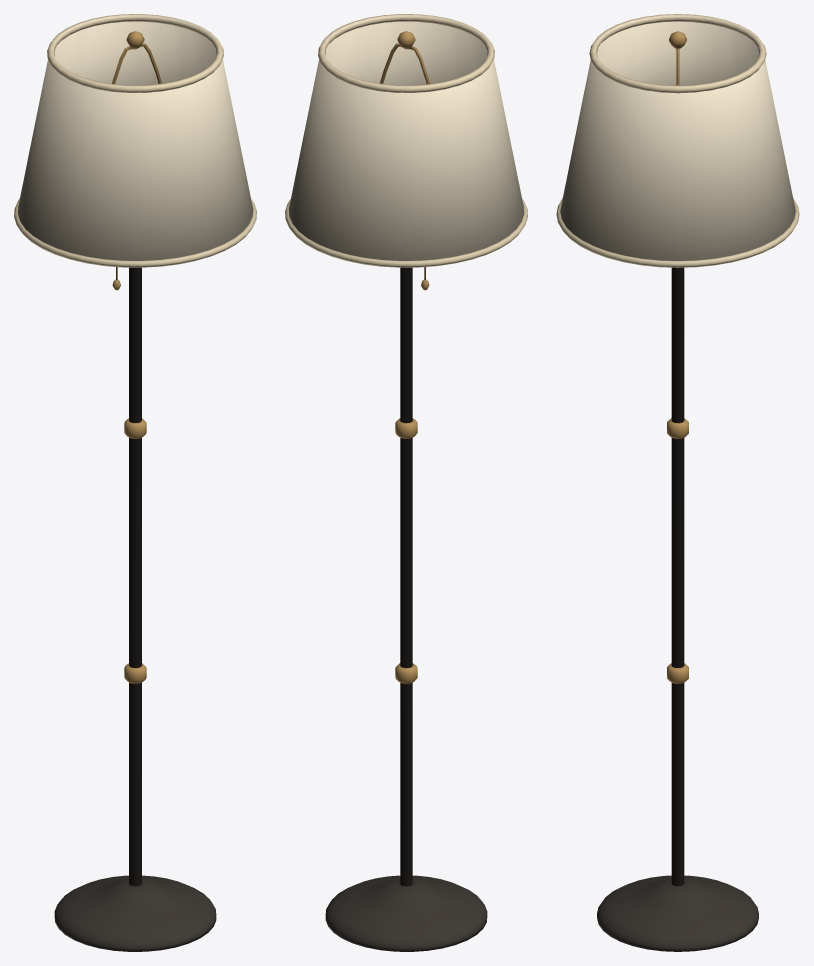
The model's file is lamp.glb.
3 views of the same model, side by side, from view 1: azimuth 30°, elevation 25°; view 2: azimuth 150°, elevation 25°; view 3: azimuth 270°, elevation 25° (orthographic).
Visible parts, largest first — view 1: lamp; view 2: lamp; view 3: lamp.
Boxes of the visible parts, x1,y1,x2,y2 form: lamp: [14, 14, 256, 951]; lamp: [285, 14, 527, 951]; lamp: [556, 14, 799, 951].
Size of the model in its own units: 0.45 by 1.81 by 0.45.
